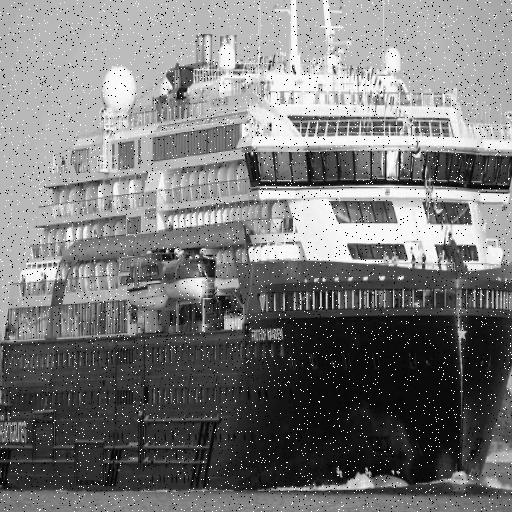cruises: (1, 1, 512, 494)
